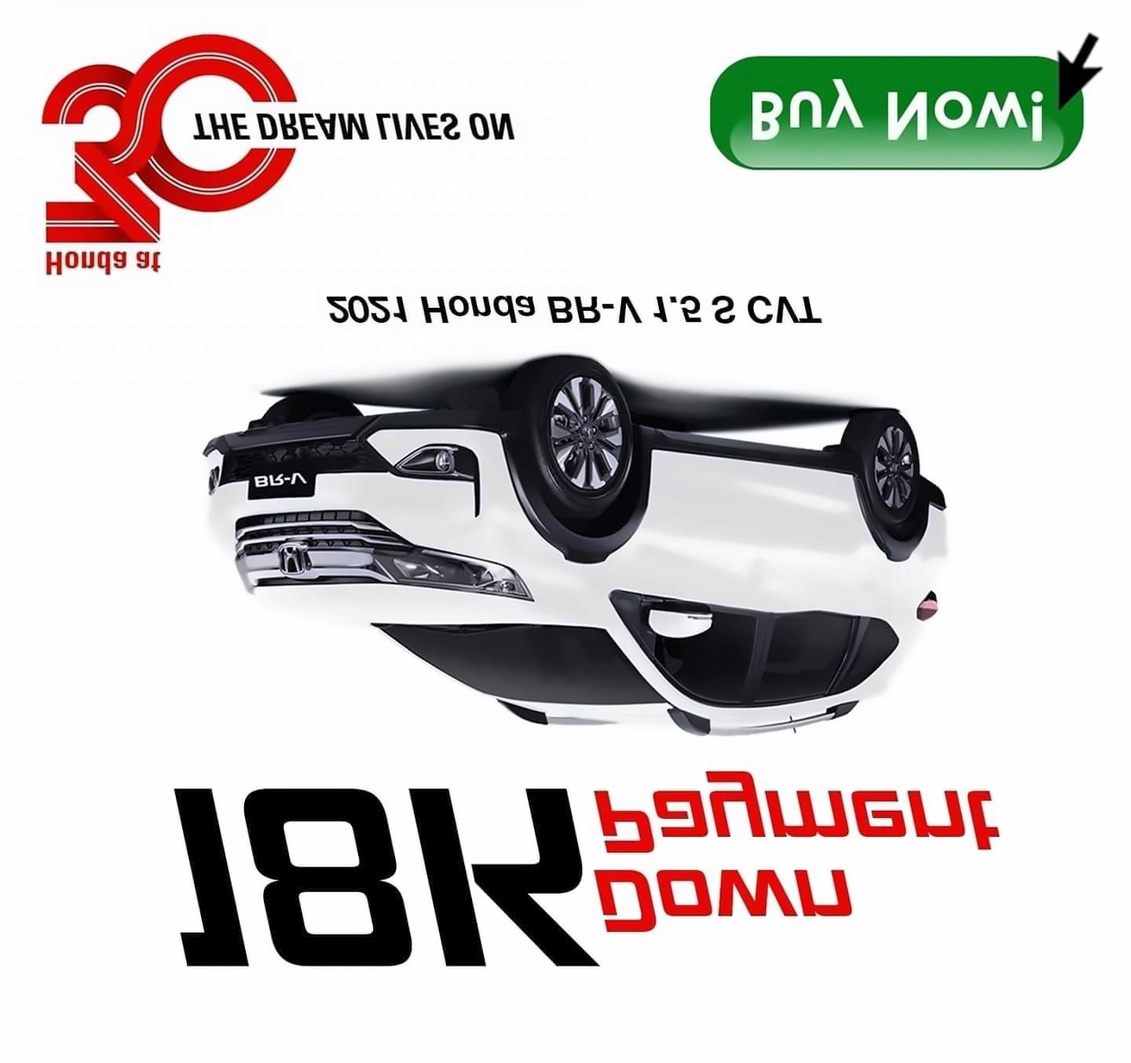Car hood: (247, 581, 623, 643)
Driver-s door - -F-R-: (581, 404, 782, 741)
Fender - -F-R-: (494, 440, 665, 638)
Fender - -R-R-: (833, 452, 948, 663)
Front bumper: (187, 413, 549, 574)
Headlight - -R-: (372, 540, 537, 610)
Passenger-s door - -R-R-: (720, 425, 875, 754)
Rear light - -R-: (903, 593, 951, 623)
Side bumper - -R-: (640, 416, 871, 535)
Side mirror - -R-: (619, 589, 718, 645)
